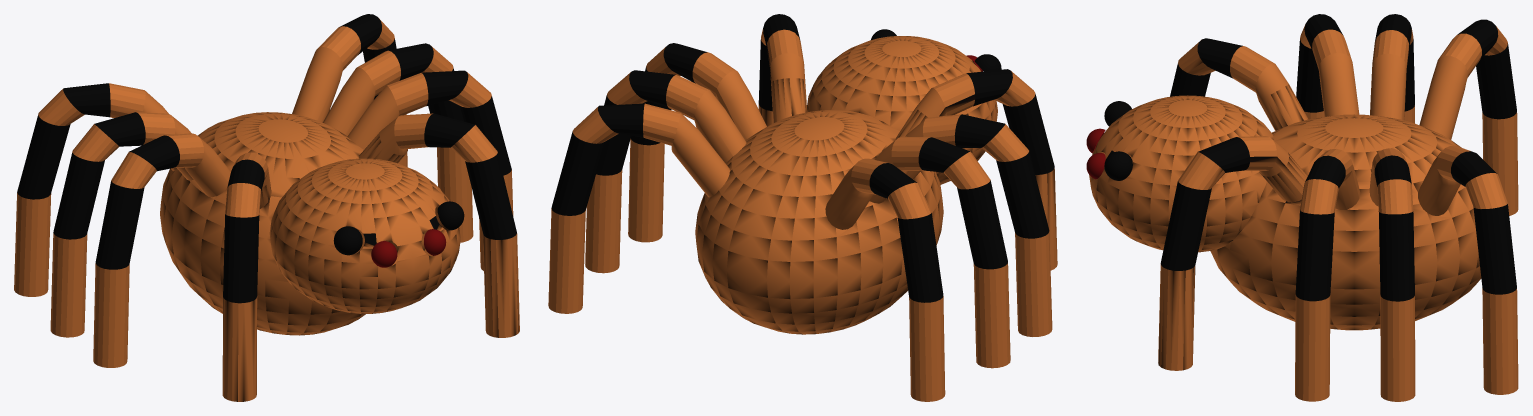
The model's file is sad.fbx.
The picture shows the model from 3 angles, left to right: view 1: azimuth 30°, elevation 25°; view 2: azimuth 150°, elevation 25°; view 3: azimuth 270°, elevation 25°; orthographic projection.
Visible parts, largest first — view 1: Sphere004, legbb008, legbb009, legbb010, legbb016, legbb011, legbb017, Eyes001, legb011, legb016, legb010, legb017 (+6 smaller); view 2: Sphere004, legbb011, legbb010, legbb009, legbb019, legbb008, legb019, legb009, legb010, legb008, legb018, legbb018 (+4 smaller); view 3: Sphere004, legbb017, legbb018, legbb019, legbb016, legbb011, legbb009, legb016, Eyes003, legb008, legb019, legbb008 (+7 smaller).
Part boxes in pixels (box(x1,y1,x2,y2)): Sphere004: box(14, 18, 519, 401); legbb008: box(223, 214, 259, 303); legbb009: box(95, 181, 144, 269); legbb010: box(53, 152, 104, 239); legbb016: box(465, 153, 516, 239); legbb011: box(17, 115, 70, 199); legbb017: box(459, 96, 511, 175); Eyes001: box(333, 226, 397, 267); legb011: box(63, 83, 110, 117); legb016: box(424, 113, 474, 147); legb010: box(94, 112, 145, 146); legb017: box(421, 70, 468, 106); Sphere004: box(548, 29, 1057, 401); legbb011: box(897, 213, 943, 302); legbb010: box(957, 180, 1007, 269); legbb009: box(996, 151, 1049, 238); legbb019: box(551, 131, 605, 215); legbb008: box(1002, 94, 1054, 174); legb019: box(598, 103, 644, 137); legb009: box(954, 114, 1005, 148); legb010: box(918, 137, 969, 172); legb008: box(966, 69, 1012, 106); legb018: box(629, 70, 675, 107); legbb018: box(596, 95, 631, 175); Sphere004: box(1089, 24, 1518, 401); legbb017: box(1295, 210, 1334, 301); legbb018: box(1378, 211, 1414, 301); legbb019: box(1473, 204, 1516, 294); legbb016: box(1160, 181, 1211, 270); legbb011: box(1476, 43, 1516, 119); legbb009: box(1296, 39, 1323, 112); legb016: box(1198, 137, 1249, 172); Eyes003: box(1086, 151, 1132, 180); legb008: box(1197, 38, 1242, 78); legb019: box(1451, 151, 1496, 186); legbb008: box(1170, 64, 1210, 96).
Bounding box in the file's own units: 118 × 59.94 × 104.
